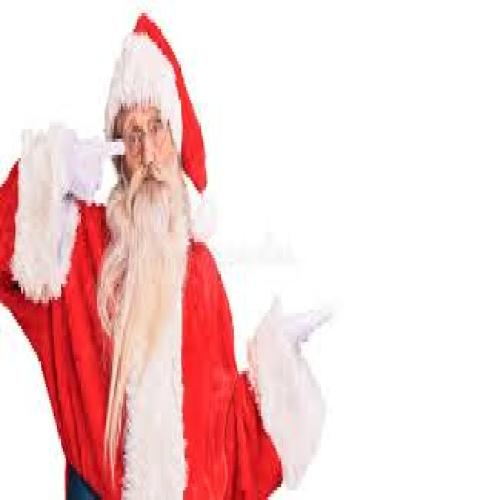Santa: (0, 11, 333, 500)
